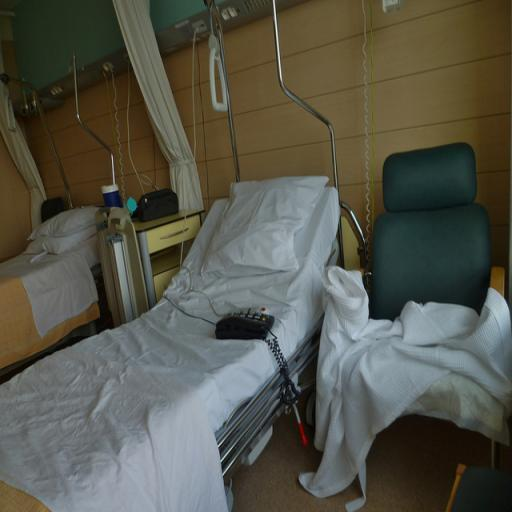bed: (13, 155, 340, 512)
